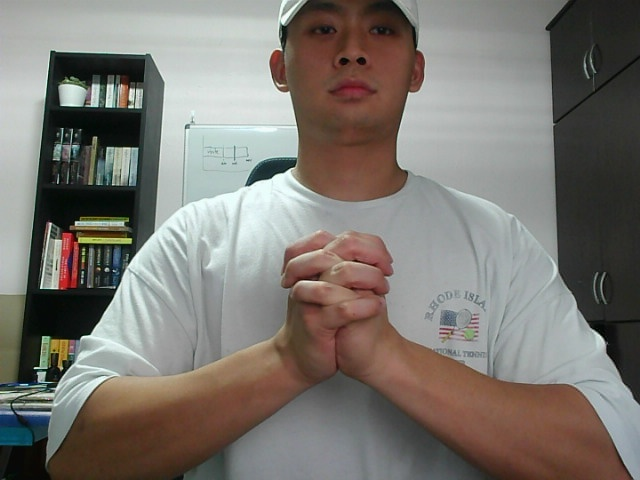Serpent: (253, 211, 419, 389)
